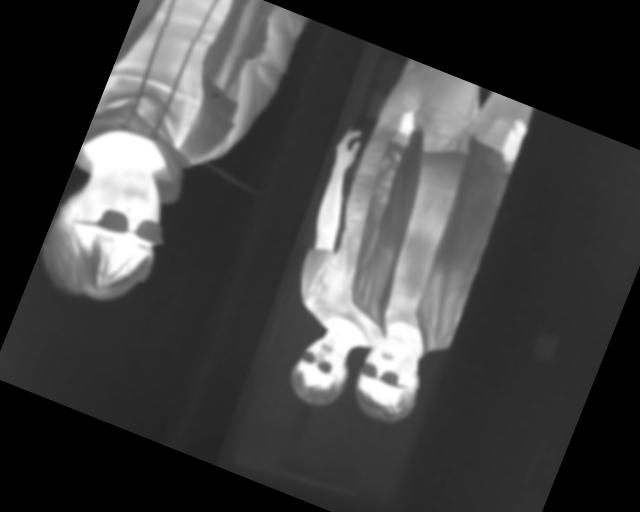face: (29, 146, 182, 319), (345, 330, 434, 431), (282, 326, 359, 414)
